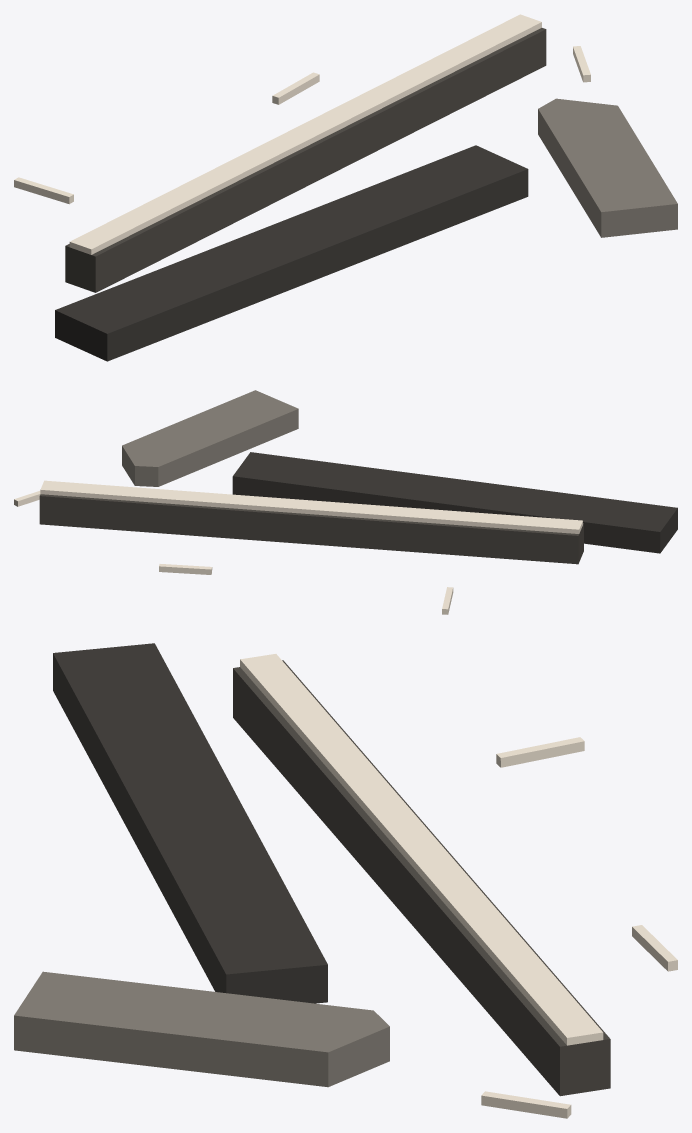
File: SM_VKI_Overlay_Debris_Rail.fbx
3 views of the same model, one above another, from view 1: azimuth 30°, elevation 25°; view 2: azimuth 150°, elevation 25°; view 3: azimuth 270°, elevation 25° (orthographic). The views are drawn at different scales.
Visible parts, largest first — view 1: SM_VKI_Overlay_Debris_Rail.001; view 2: SM_VKI_Overlay_Debris_Rail.001; view 3: SM_VKI_Overlay_Debris_Rail.001.
Part boxes in pixels (box(x1,y1,x2,y2)): SM_VKI_Overlay_Debris_Rail.001: box(14, 14, 677, 361); SM_VKI_Overlay_Debris_Rail.001: box(14, 390, 677, 614); SM_VKI_Overlay_Debris_Rail.001: box(14, 643, 677, 1118).
Size of the model in its own units: 1.38 by 0.0953 by 0.8632.
